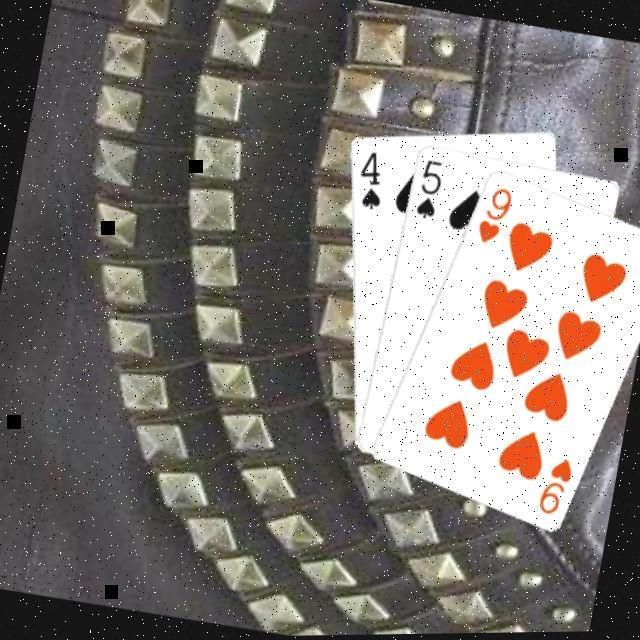4S: (351, 144, 394, 214)
5S: (412, 154, 450, 222)
9H: (534, 451, 580, 521), (473, 180, 519, 248)
